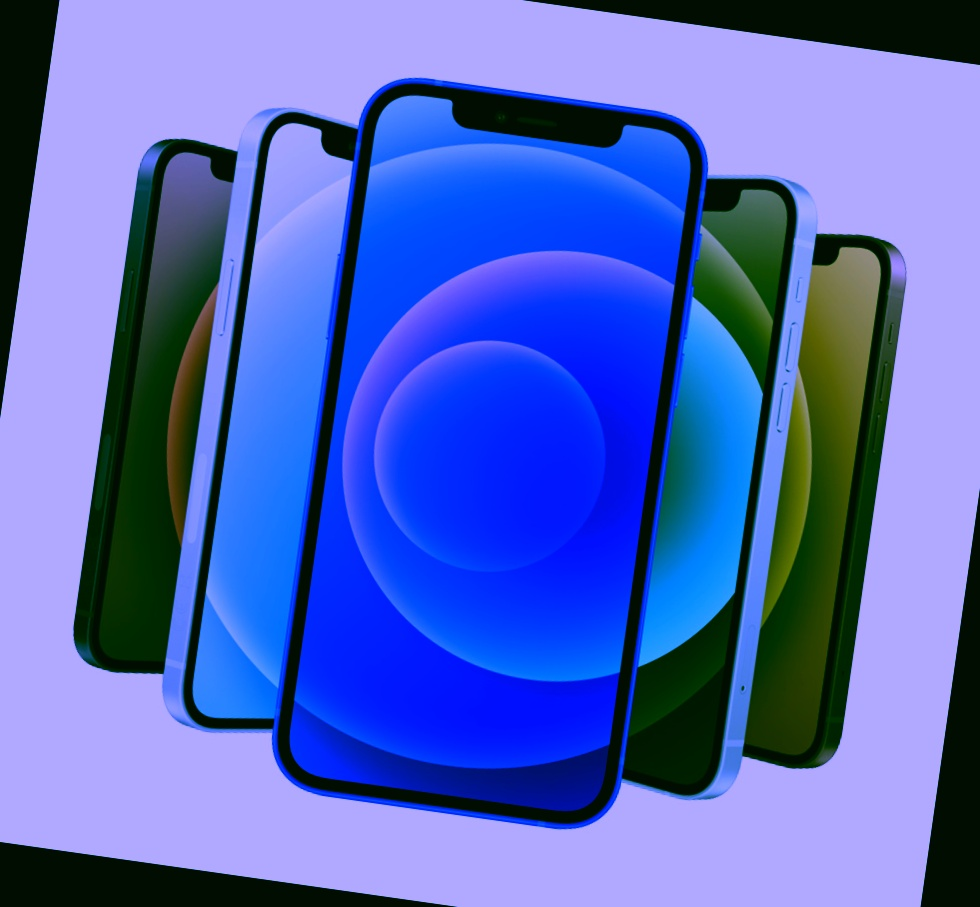iphone: (242, 114, 702, 882)
